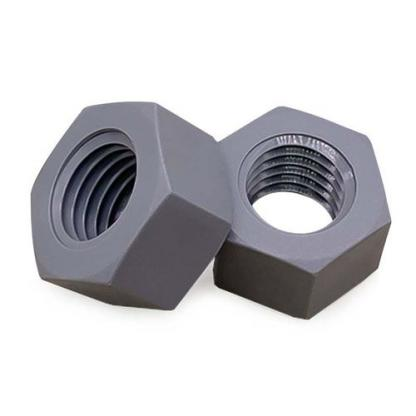FOD: (28, 99, 228, 313), (206, 102, 393, 324)
